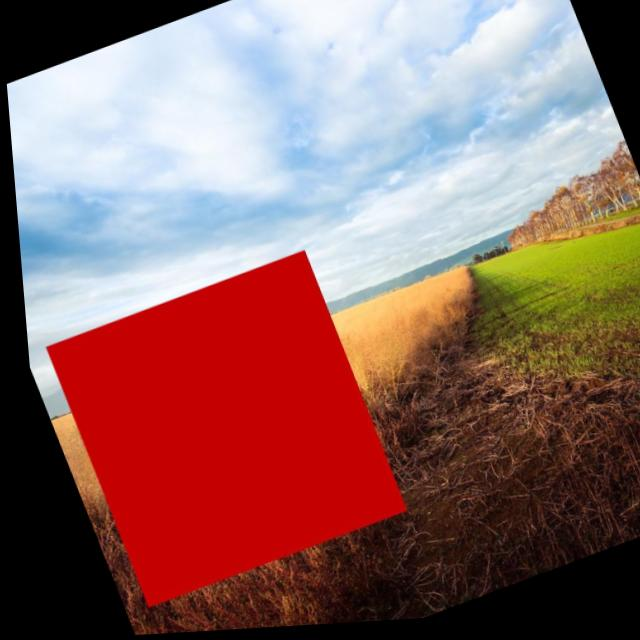RedSquare: (26, 235, 417, 621)
